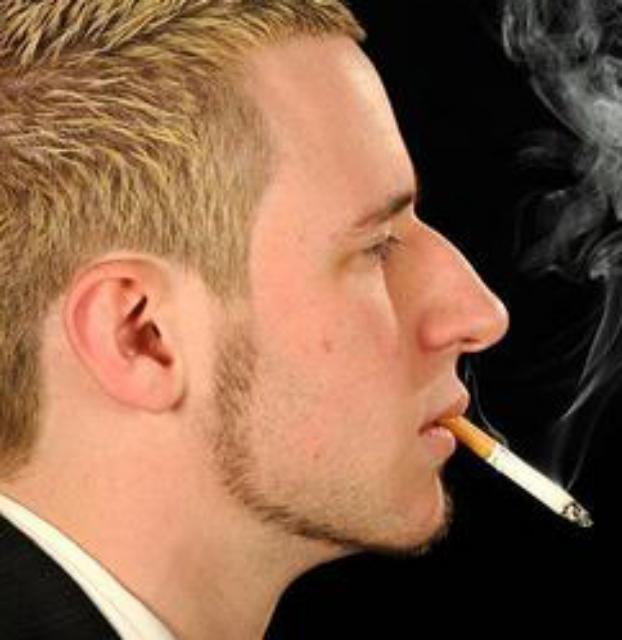Cigarette: (430, 402, 604, 544)
